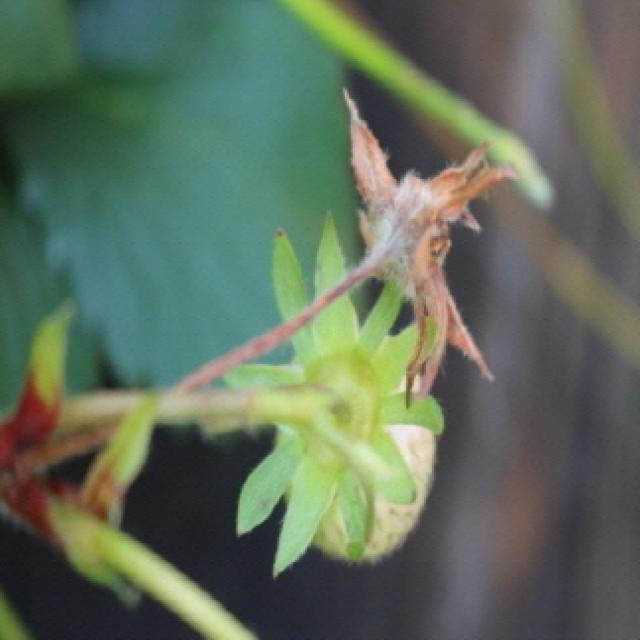Gray Mold: (339, 85, 521, 410)
